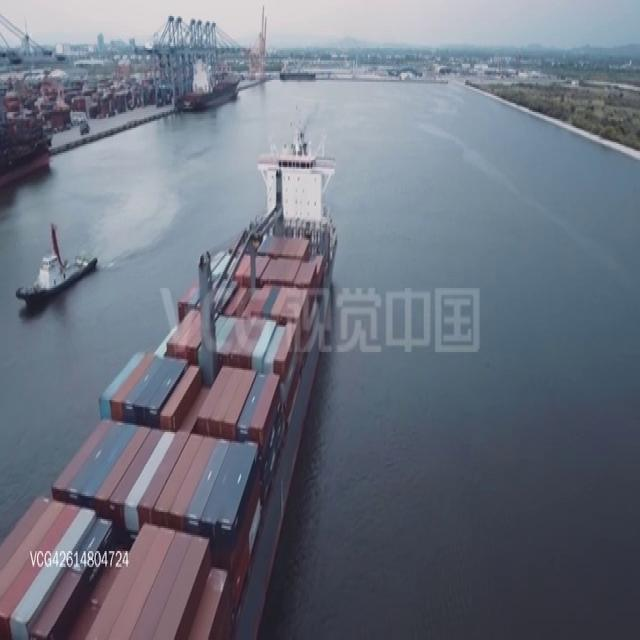cargoship: (1, 123, 337, 640)
houseboat: (15, 220, 100, 306)
